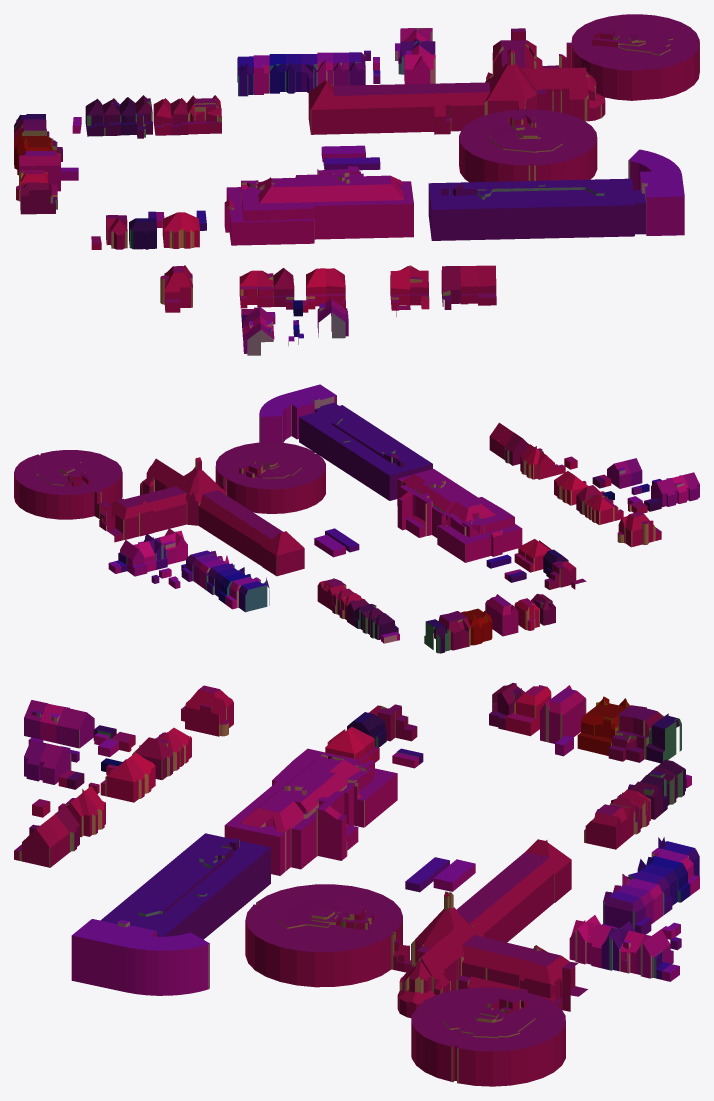
The model's file is buildings_6_13.glb.
3 renders of one model, top to bottom at view 1: azimuth 30°, elevation 25°; view 2: azimuth 150°, elevation 25°; view 3: azimuth 270°, elevation 25°, orthographic. The views are drawn at different scales.
Parts seen in each view (by area): view 1: buildings_6_13; view 2: buildings_6_13; view 3: buildings_6_13.
Part boxes in pixels (<box>): buildings_6_13: <box>14,14,699,355</box>; buildings_6_13: <box>14,384,699,653</box>; buildings_6_13: <box>14,683,699,1086</box>.
Bounding box in the file's own units: 275 × 27.95 × 212.
